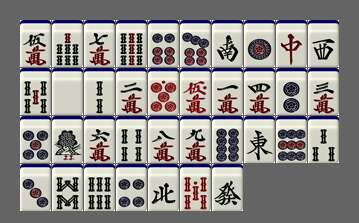0m: (180, 68, 211, 115)
0p: (148, 68, 179, 115)
0s: (180, 164, 211, 211)
1m: (212, 68, 243, 115)
1p: (244, 20, 275, 67)
1s: (52, 116, 83, 163)
1z: (244, 116, 275, 163)
2m: (116, 68, 147, 115)
2p: (276, 68, 307, 115)
2s: (84, 68, 115, 115)
2z: (212, 20, 243, 67)
3m: (308, 68, 339, 115)
3p: (20, 164, 51, 211)
3s: (308, 116, 339, 163)
3z: (308, 20, 339, 67)
4m: (244, 68, 275, 115)
4p: (116, 164, 147, 211)
4s: (116, 116, 147, 163)
4z: (148, 164, 179, 211)
5m: (20, 20, 51, 67)
5p: (20, 116, 51, 163)
5s: (20, 68, 51, 115)
5z: (52, 68, 83, 115)
6m: (84, 116, 115, 163)
6p: (148, 20, 179, 67)
6s: (84, 164, 115, 211)
6z: (212, 164, 243, 211)
7m: (84, 20, 115, 67)
7p: (180, 20, 211, 67)
7s: (52, 20, 83, 67)
7z: (276, 20, 307, 67)
8m: (148, 116, 179, 163)
8p: (212, 116, 243, 163)
8s: (52, 164, 83, 211)
9m: (180, 116, 211, 163)
9p: (276, 116, 307, 163)
9s: (116, 20, 147, 67)
